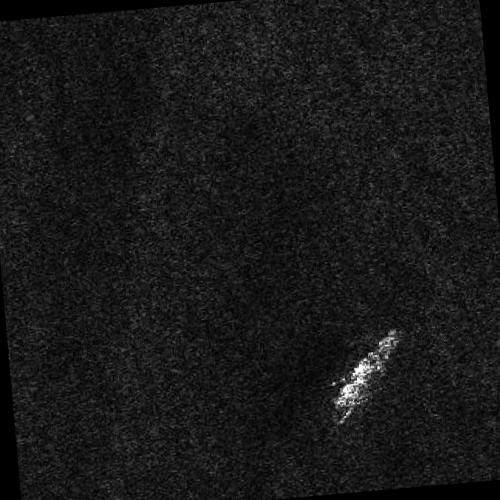ship: (331, 327, 400, 411)
